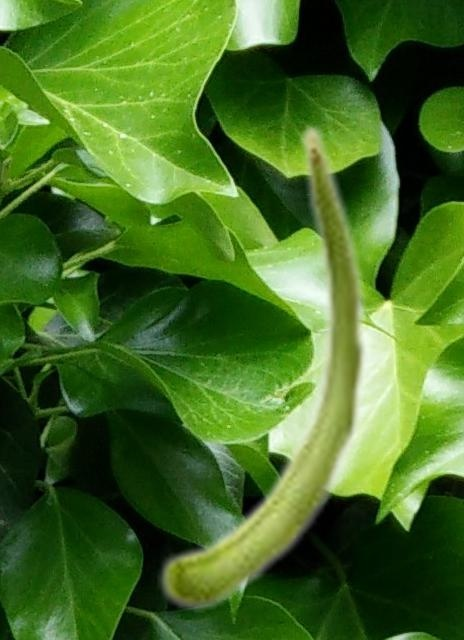french_bean: (157, 121, 370, 611)
